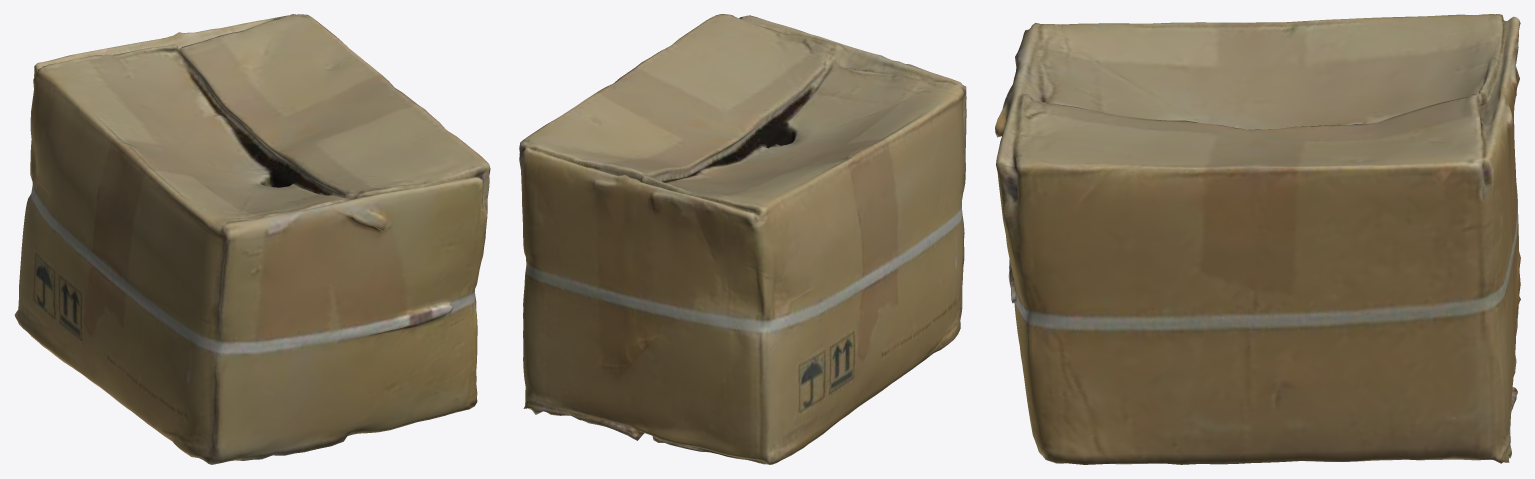
File: cardboard_box_01.glb
3 views of the same model, side by side, from view 1: azimuth 30°, elevation 25°; view 2: azimuth 150°, elevation 25°; view 3: azimuth 270°, elevation 25° (orthographic). The views are drawn at different scales.
Visible parts, largest first — view 1: cardboard_box_01; view 2: cardboard_box_01; view 3: cardboard_box_01.
Boxes of the visible parts, box(x1,y1,x2,y2) form: cardboard_box_01: box(14, 14, 490, 464); cardboard_box_01: box(519, 14, 966, 464); cardboard_box_01: box(995, 14, 1520, 464).
Bounding box in the file's own units: 0.387 × 0.3418 × 0.5159.
Materials: 1 (1 with a texture image).
